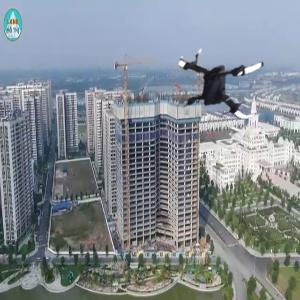drone: (165, 32, 270, 137)
